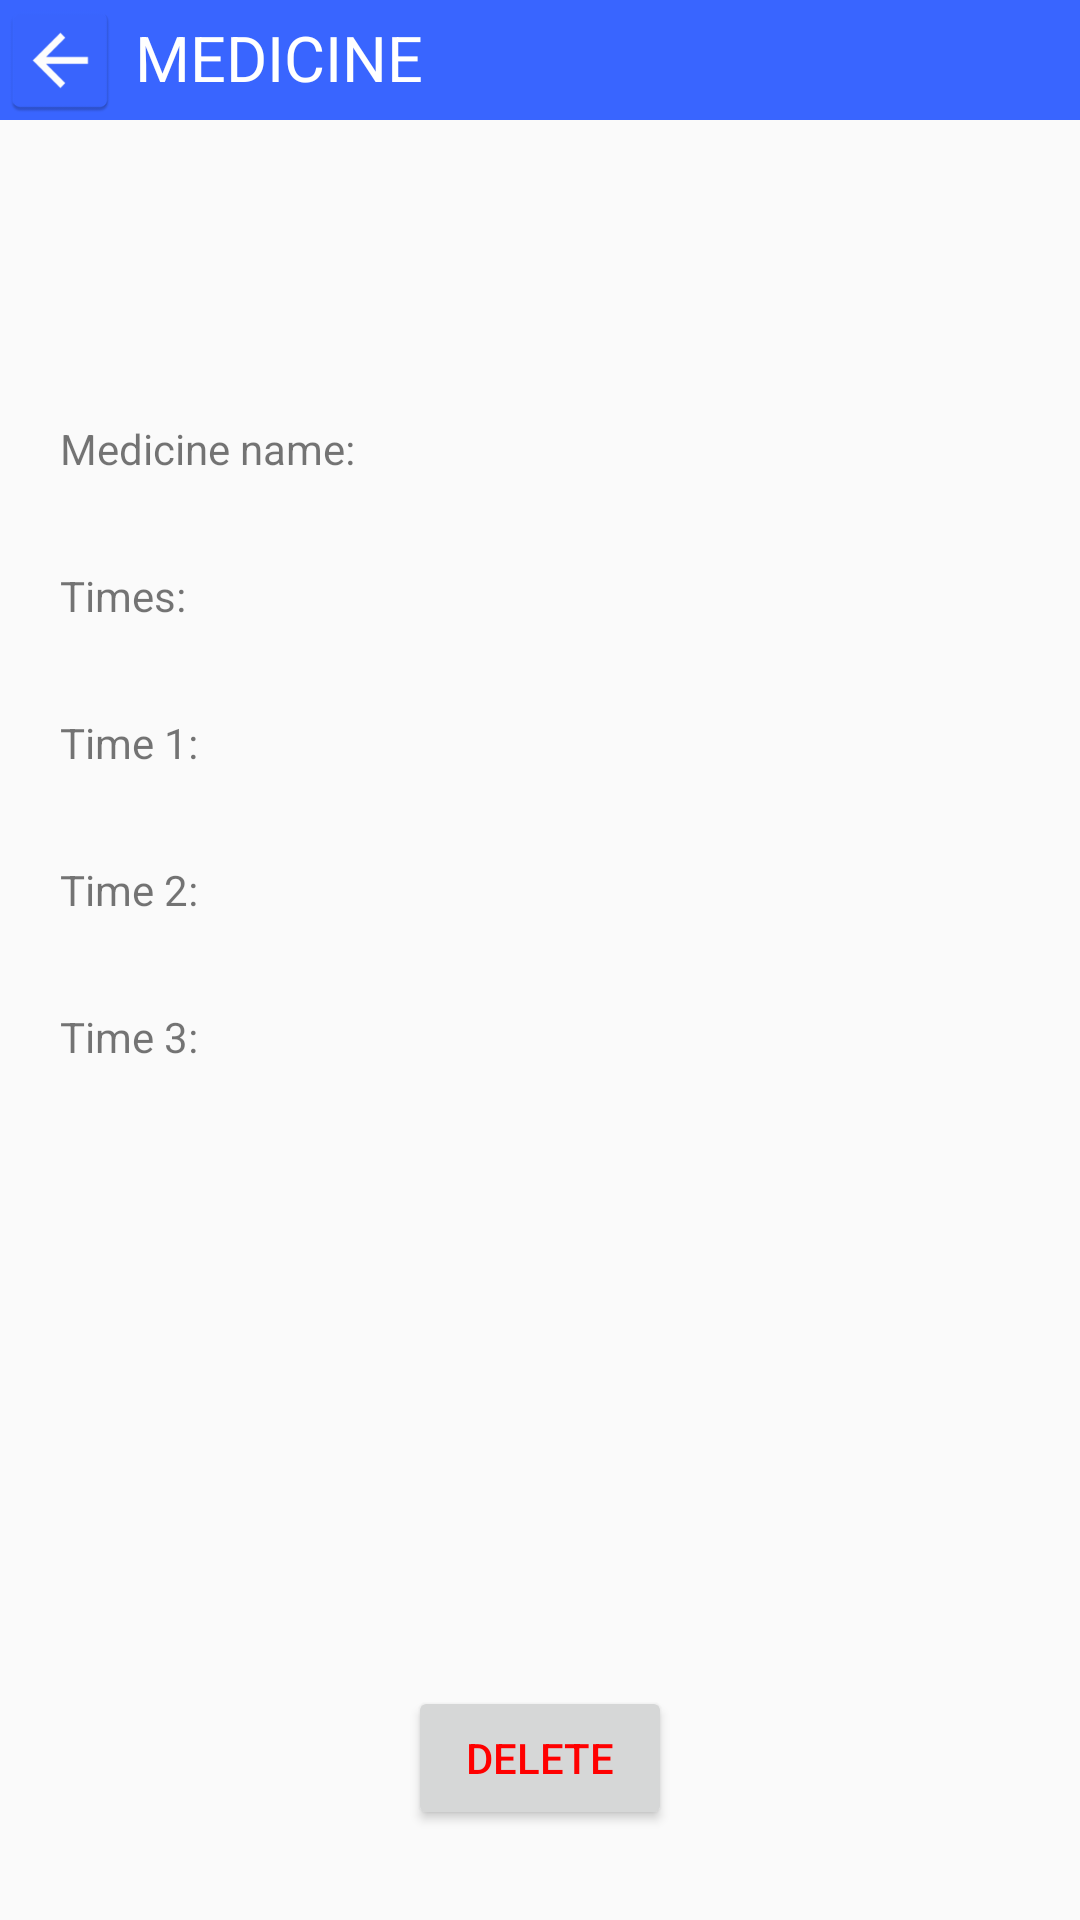

Screen size 1080 x 1920. Icon name, then its center in pixels as [x,y]:
back: [60,65]
